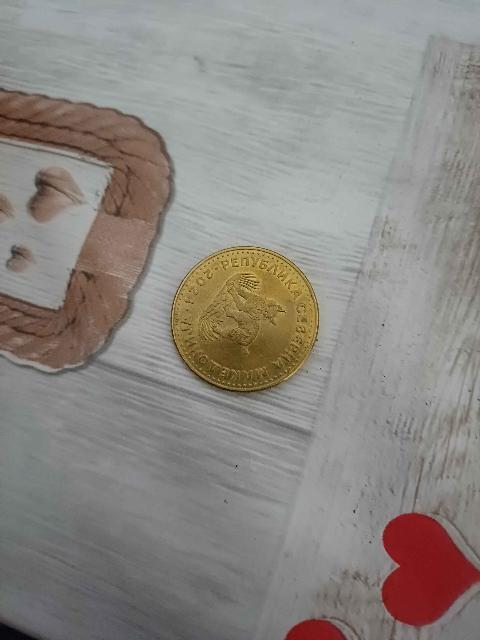5_coin: (172, 247, 318, 390)
